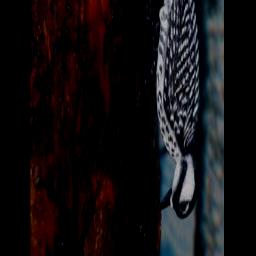Woodpecker: (145, 0, 203, 231)
